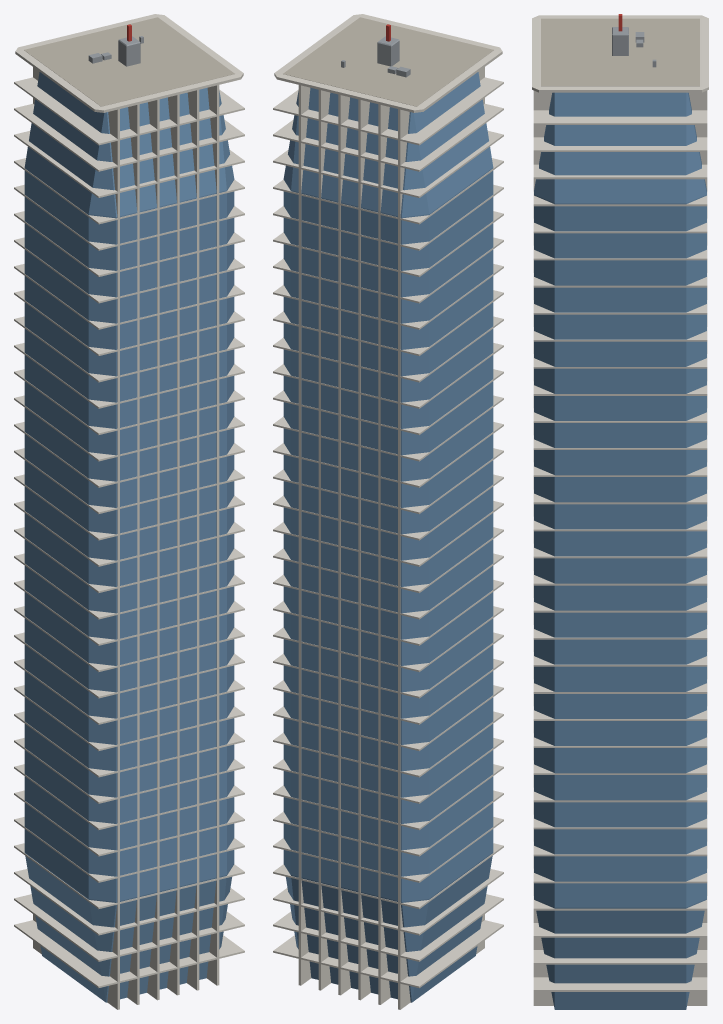
The model's file is tower_grid_h130.glb.
3 views of the same model, side by side, from view 1: azimuth 30°, elevation 25°; view 2: azimuth 150°, elevation 25°; view 3: azimuth 270°, elevation 25° (orthographic). The views are drawn at different scales.
Visible parts, largest first — view 1: glasscore, gridroof, mullv.005, mullv, mullv.004, mullv.003, mullv.002, mullv.001, gridlip, mullh, mullh.032, mullh.001 (+31 smaller); view 2: glasscore, gridroof, mullv.005, mullv, mullv.004, mullv.003, mullv.002, mullv.001, gridlip, mullh, mullh.032, mullh.001 (+31 smaller); view 3: glasscore, gridroof, mullv.005, gridlip, mullh, mullh.032, mullh.001, mullh.031, mullh.030, mullh.002, mullh.007, mullh.018 (+26 smaller).
Part boxes in pixels (x1,y1,x2,y2): glasscore: [24, 72, 234, 1002]; gridroof: [24, 17, 234, 106]; mullv.005: [206, 85, 219, 985]; mullv: [33, 67, 119, 1009]; mullv.004: [187, 90, 199, 990]; mullv.003: [167, 94, 179, 995]; mullv.002: [147, 99, 159, 1000]; mullv.001: [127, 104, 139, 1004]; gridlip: [15, 14, 243, 112]; mullh: [14, 920, 244, 988]; mullh.032: [14, 77, 244, 145]; mullh.001: [14, 894, 244, 961]; glasscore: [283, 72, 493, 1002]; gridroof: [283, 17, 493, 106]; mullv.005: [298, 85, 311, 985]; mullv: [398, 67, 484, 1009]; mullv.004: [318, 90, 330, 990]; mullv.003: [338, 94, 350, 995]; mullv.002: [358, 99, 370, 1000]; mullv.001: [378, 104, 390, 1004]; gridlip: [274, 14, 502, 112]; mullh: [273, 920, 503, 988]; mullh.032: [273, 77, 503, 145]; mullh.001: [273, 894, 503, 961]; glasscore: [534, 92, 706, 1009]; gridroof: [541, 18, 699, 86]; mullv.005: [533, 90, 707, 1005]; gridlip: [532, 15, 708, 92]; mullh: [533, 977, 707, 991]; mullh.032: [533, 110, 707, 124]; mullh.001: [533, 950, 707, 964]; mullh.031: [533, 137, 707, 151]; mullh.030: [533, 164, 707, 179]; mullh.002: [533, 923, 707, 937]; mullh.007: [533, 788, 707, 802]; mullh.018: [533, 490, 707, 504].
Size of the model in its own units: 22.5 by 136 by 22.5.
